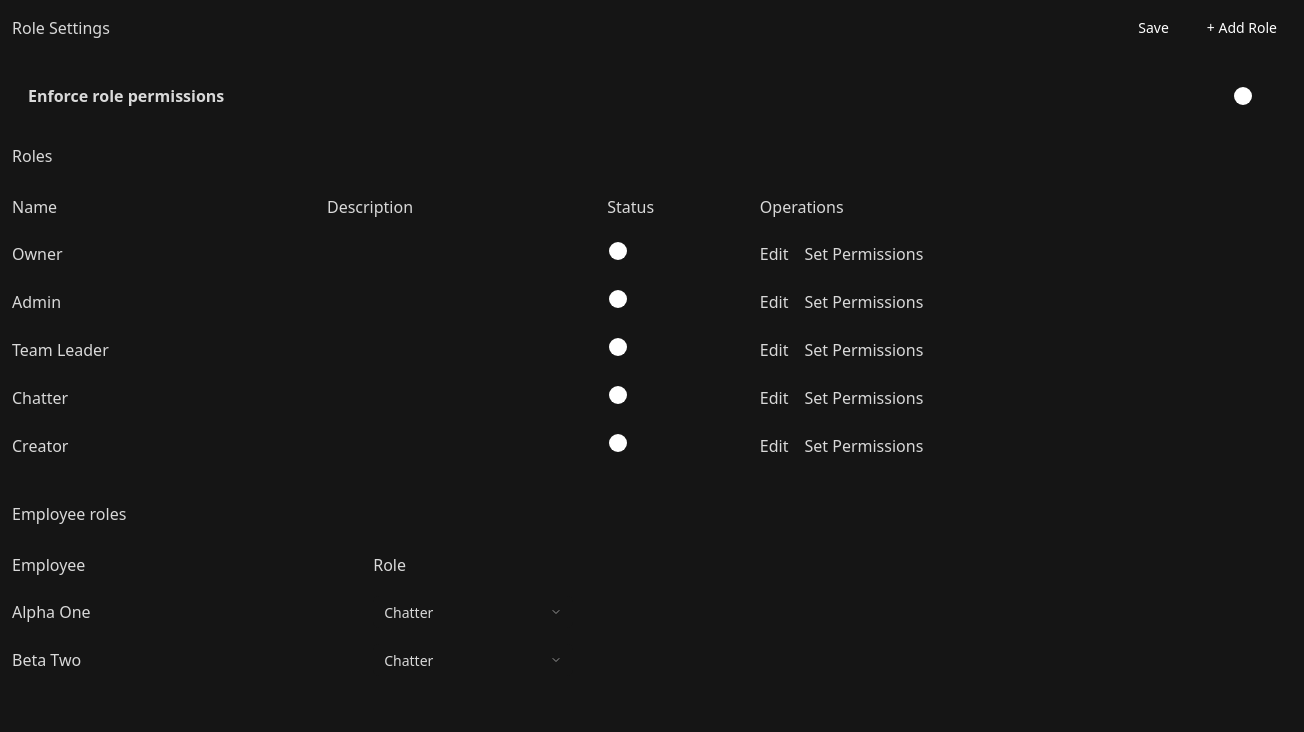
RoleSettingsTab › Set Permissions on the built-in Admin shows My Automations unticked and every other page ticked
The width and height of the screenshot is (1304, 732).
Expected: the button "+ Add Role" is enabled, [1192,12,1292,44]
Click the button "Set Permissions" in the row of "Admin" at (864, 302), box [804,290,923,314]
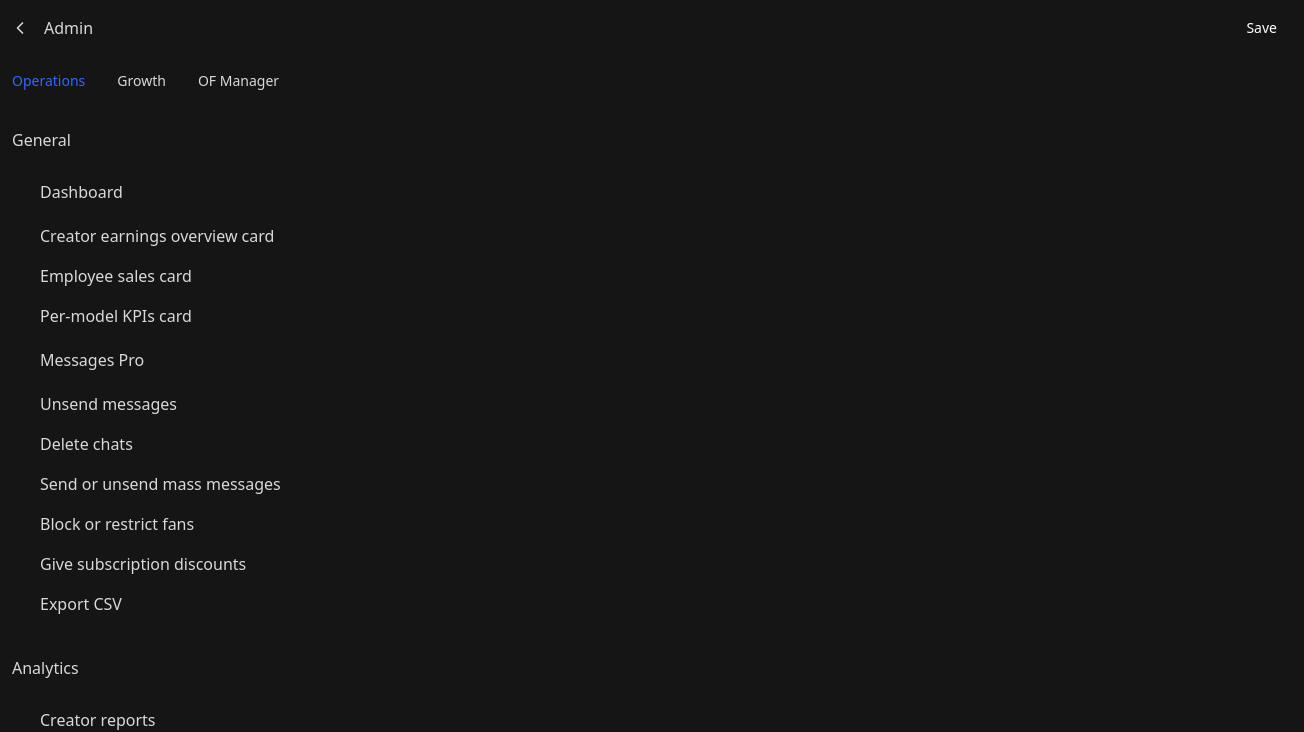
Expected: the heading "Admin" is shown, [44,16,93,40]
